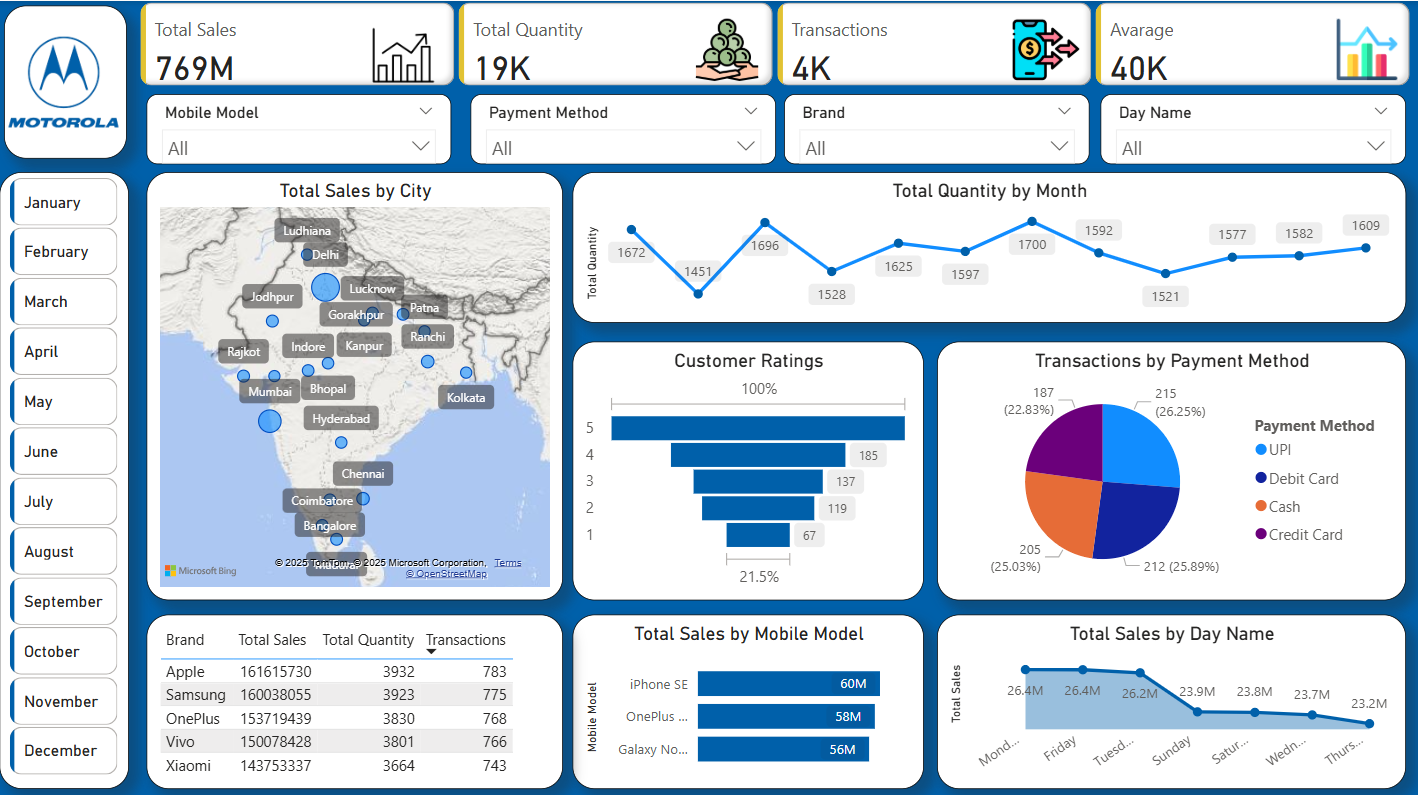

The dashboard page shown, as its layout file describes it:
{"tool":"powerbi","page":{"name":"Page 1","canvas":[1280,720],"ordinal":0},"visuals":[{"type":"shape","box":[6.1,4.5,110.5,137.8],"z":0},{"type":"image","box":[4.1,4.1,109.5,137.9],"z":1000},{"type":"shape","box":[1.5,154.4,116.6,555.7],"z":2000},{"type":"advancedSlicerVisual","fields":{"Values":["Sales_Data.Date.Variation.Date Hierarchy.Month"]},"box":[6.1,154.4,107.5,555.7],"z":3000},{"type":"cardVisual","fields":{"Data":["Sales_Data.Total Sales","Sales_Data.Total Quantity","Sales_Data.Transactions","Sales_Data.Avarage"]},"box":[122.7,0,1156.9,96.9],"z":4000},{"type":"map","fields":{"Category":["Sales_Data.City"],"Size":["Sales_Data.Total Sales"]},"box":[133.3,154.4,375.5,386.1],"z":5000},{"type":"lineChart","fields":{"Y":["Sales_Data.Total Quantity"],"Category":["Sales_Data.Date.Variation.Date Hierarchy.Month","Sales_Data.Date.Variation.Date Hierarchy.Day"]},"box":[517.9,154.4,751,136.3],"z":6000},{"type":"clusteredBarChart","fields":{"Category":["Sales_Data.Mobile Model"],"Y":["Sales_Data.Total Sales"]},"box":[517.9,552.7,316.5,157.5],"z":7000},{"type":"pieChart","fields":{"Category":["Sales_Data.Payment Method"],"Y":["Sales_Data.Transactions"]},"box":[846.4,307.4,422.5,233.2],"z":8000},{"type":"funnel","title":" Customer Ratings","fields":{"Category":["Sales_Data.Customer Ratings"],"Y":["CountNonNull(Sales_Data.Customer Ratings)"]},"box":[517.9,307.4,316.5,233.2],"z":9000},{"type":"areaChart","fields":{"Category":["Sales_Data.Day Name"],"Y":["Sales_Data.Total Sales"]},"box":[846.4,552.7,422.5,157.5],"z":10000},{"type":"tableEx","fields":{"Values":["Sales_Data.Brand","Sales_Data.Total Sales","Sales_Data.Total Quantity","Sales_Data.Transactions"]},"box":[133.3,552.7,375.5,157.5],"z":11000},{"type":"slicer","fields":{"Values":["Sales_Data.Mobile Model"]},"box":[133.8,83.8,274.4,63.5],"z":12000},{"type":"slicer","fields":{"Values":["Sales_Data.Payment Method"]},"box":[425.5,83.3,275.6,63.6],"z":13000},{"type":"slicer","fields":{"Values":["Sales_Data.Brand"]},"box":[708.6,83.3,275.6,63.6],"z":14000},{"type":"slicer","fields":{"Values":["Sales_Data.Day Name"]},"box":[993.3,83.3,275.6,63.6],"z":15000}]}

Visuals, with their boxes in screenshot pixels (x1, y1, x2, y2), scaled from the page's 1280x720 canvas onto the 1418x795 screenshot:
shape: {"left": 7, "top": 5, "right": 129, "bottom": 157}
image: {"left": 5, "top": 5, "right": 126, "bottom": 157}
shape: {"left": 2, "top": 170, "right": 131, "bottom": 784}
advancedSlicerVisual - Sales_Data.Date.Variation.Date Hierarchy.Month: {"left": 7, "top": 170, "right": 126, "bottom": 784}
cardVisual - Sales_Data.Total Sales x Sales_Data.Total Quantity: {"left": 136, "top": 0, "right": 1417, "bottom": 107}
map - Sales_Data.City x Sales_Data.Total Sales: {"left": 148, "top": 170, "right": 564, "bottom": 597}
lineChart - Sales_Data.Total Quantity x Sales_Data.Date.Variation.Date Hierarchy.Month: {"left": 574, "top": 170, "right": 1406, "bottom": 321}
clusteredBarChart - Sales_Data.Mobile Model x Sales_Data.Total Sales: {"left": 574, "top": 610, "right": 924, "bottom": 784}
pieChart - Sales_Data.Payment Method x Sales_Data.Transactions: {"left": 938, "top": 339, "right": 1406, "bottom": 597}
" Customer Ratings" funnel: {"left": 574, "top": 339, "right": 924, "bottom": 597}
areaChart - Sales_Data.Day Name x Sales_Data.Total Sales: {"left": 938, "top": 610, "right": 1406, "bottom": 784}
tableEx - Sales_Data.Brand x Sales_Data.Total Sales: {"left": 148, "top": 610, "right": 564, "bottom": 784}
slicer - Sales_Data.Mobile Model: {"left": 148, "top": 93, "right": 452, "bottom": 163}
slicer - Sales_Data.Payment Method: {"left": 471, "top": 92, "right": 777, "bottom": 162}
slicer - Sales_Data.Brand: {"left": 785, "top": 92, "right": 1090, "bottom": 162}
slicer - Sales_Data.Day Name: {"left": 1100, "top": 92, "right": 1406, "bottom": 162}
